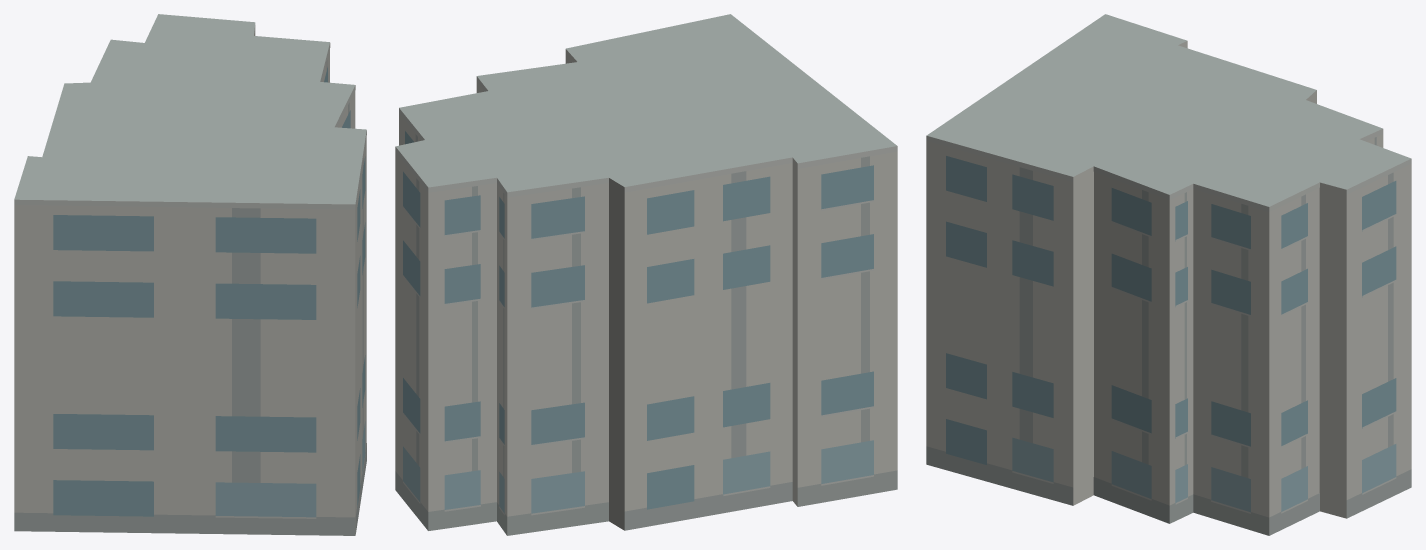
The model's file is survey-upis-32872984.glb.
3 views of the same model, side by side, from view 1: azimuth 30°, elevation 25°; view 2: azimuth 150°, elevation 25°; view 3: azimuth 270°, elevation 25° (orthographic). The views are drawn at different scales.
Parts seen in each view (by area): view 1: survey-upis-32872984.tmp; view 2: survey-upis-32872984.tmp; view 3: survey-upis-32872984.tmp.
Boxes of the visible parts, x1,y1,x2,y2 form: survey-upis-32872984.tmp: (14,14,366,535); survey-upis-32872984.tmp: (395,14,897,535); survey-upis-32872984.tmp: (926,14,1411,535).
Bounding box in the file's own units: 19.2 × 15.25 × 20.39.
